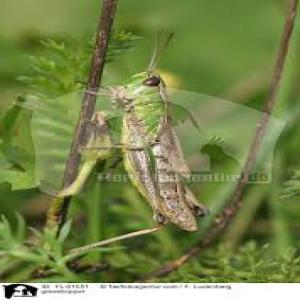locust: (70, 36, 219, 229)
